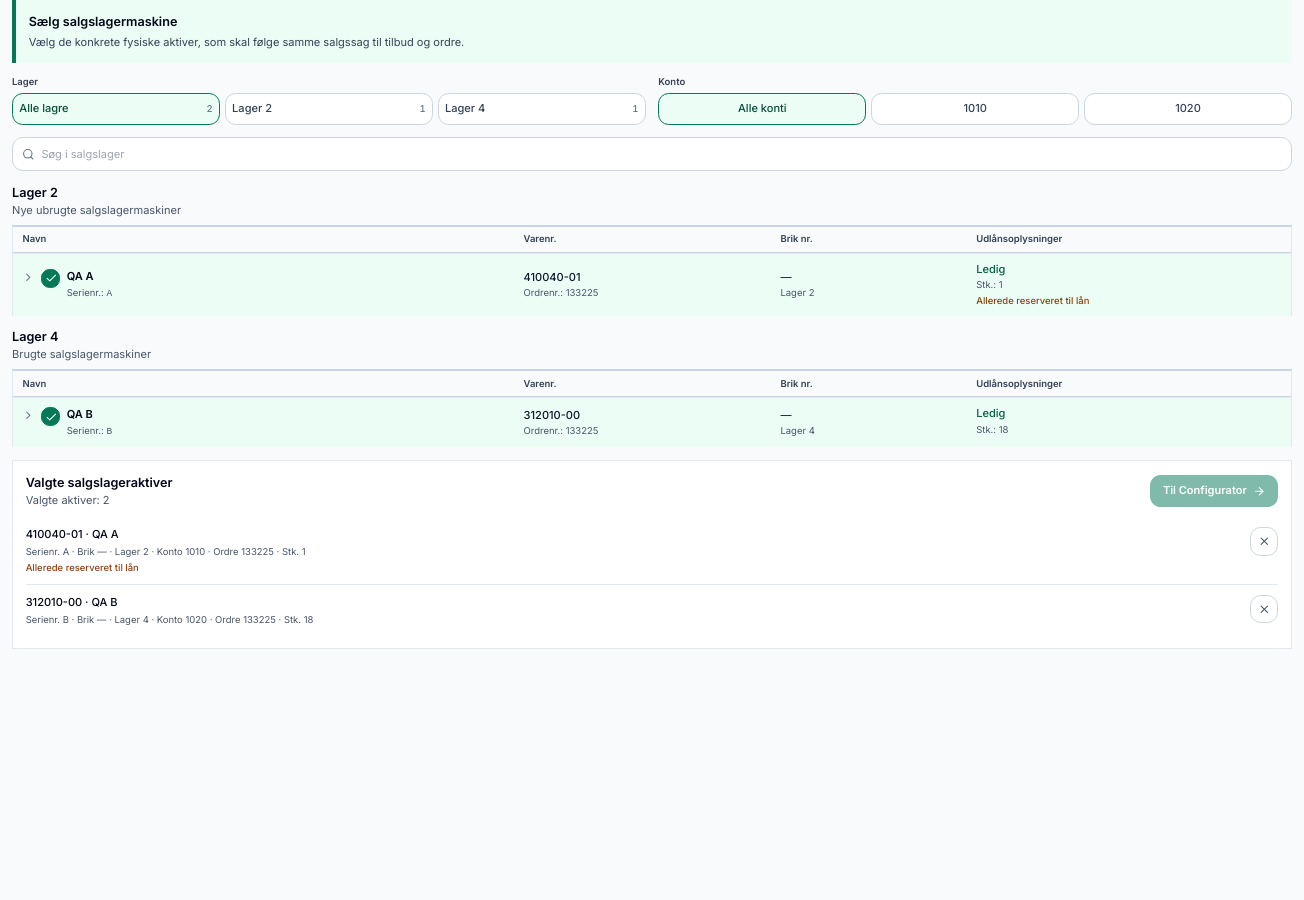
Test: sales stock multi-selection › revalidates selected assets after reservation and blocks transfer until resolved
This screenshot has width=1304, height=900.
Earlier steps of the test are not shown.
Check: the button "Til Configurator" is disabled, box [1150,475,1278,507]
Check: the message "Allerede reserveret til lån" is shown, box [26,562,139,573]
Click the button named "Fjern 410040-01". click: (1264, 542)
box: [1250,527,1278,556]
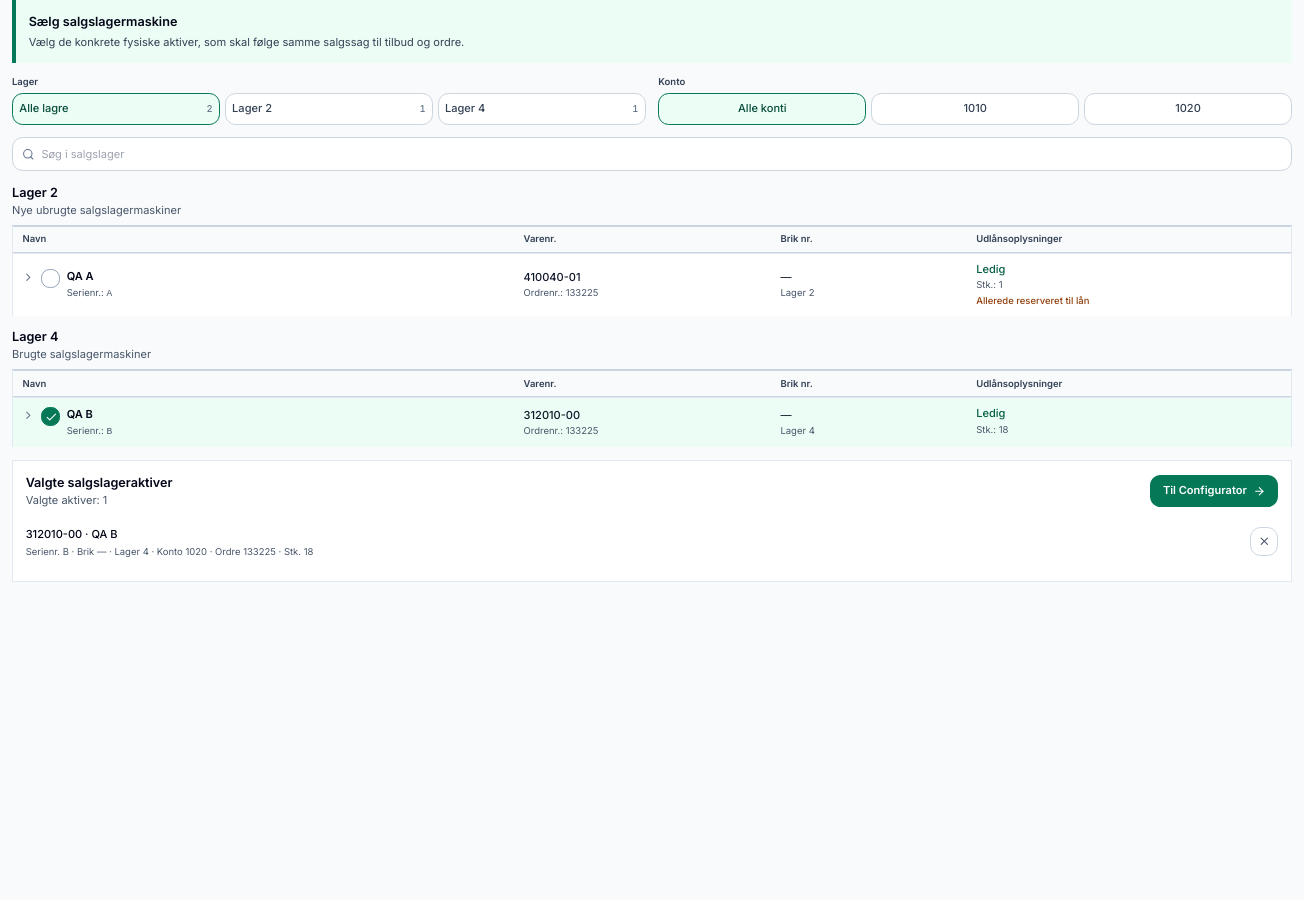
Check: the text "Valgte aktiver: 1" is shown, box [26,493,107,507]
